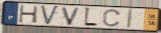C: (102, 8, 122, 28)
H: (18, 4, 40, 24)
I: (125, 8, 135, 29)
L: (83, 6, 99, 28)
V: (60, 6, 82, 26), (40, 5, 60, 26)
